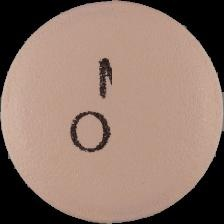0378-6610: (0, 0, 224, 224)
